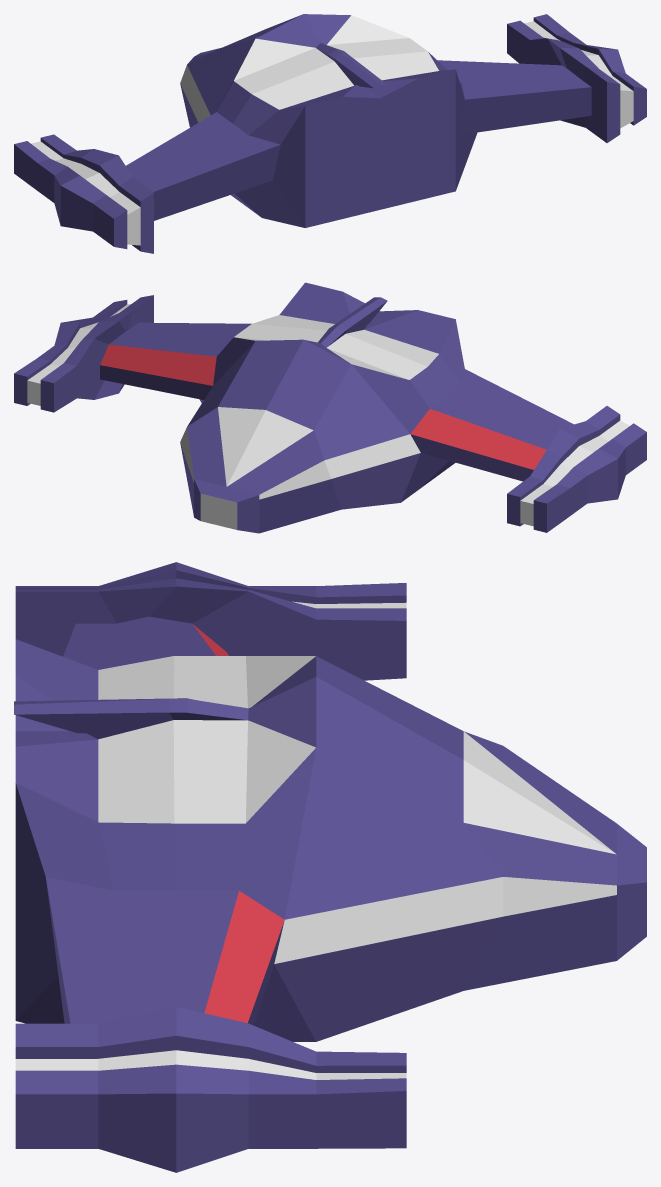
File: Player.fbx
3 views of the same model, one above another, from view 1: azimuth 30°, elevation 25°; view 2: azimuth 150°, elevation 25°; view 3: azimuth 270°, elevation 25° (orthographic). The views are drawn at different scales.
Parts seen in each view (by area): view 1: Cube; view 2: Cube; view 3: Cube.
Boxes of the visible parts, left/top/right/bottom form: Cube: left=14, top=14, right=646, bottom=253; Cube: left=14, top=282, right=646, bottom=533; Cube: left=14, top=562, right=646, bottom=1172.
Size of the model in its own units: 418 by 100 by 211.
